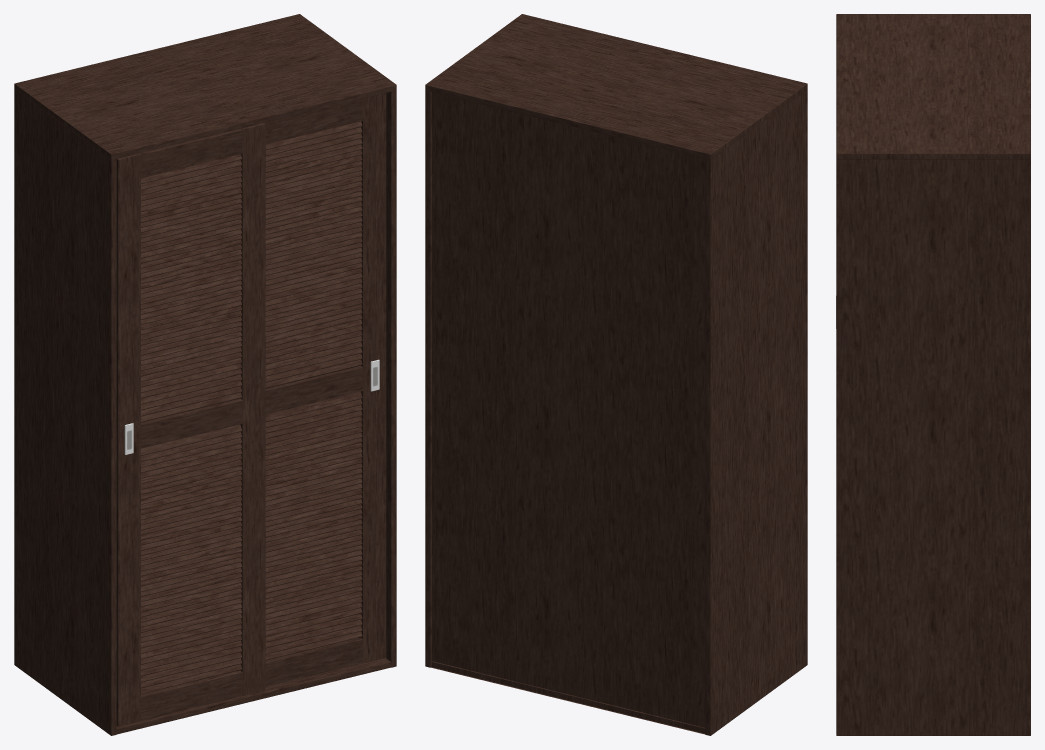
File: MEGA_PACK_CABINET__cabinet-306913_frame_brown.glb
3 views of the same model, side by side, from view 1: azimuth 30°, elevation 25°; view 2: azimuth 150°, elevation 25°; view 3: azimuth 270°, elevation 25° (orthographic).
Parts seen in each view (by area): view 1: cabinet-306913_frame_brown; view 2: cabinet-306913_frame_brown; view 3: cabinet-306913_frame_brown.
Boxes of the visible parts, <box> form: cabinet-306913_frame_brown: <box>14,14,396,735</box>; cabinet-306913_frame_brown: <box>425,14,807,735</box>; cabinet-306913_frame_brown: <box>836,14,1030,735</box>.
Bounding box in the file's own units: 1 × 1.95 × 0.591.
Materials: 1 (1 with a texture image).
